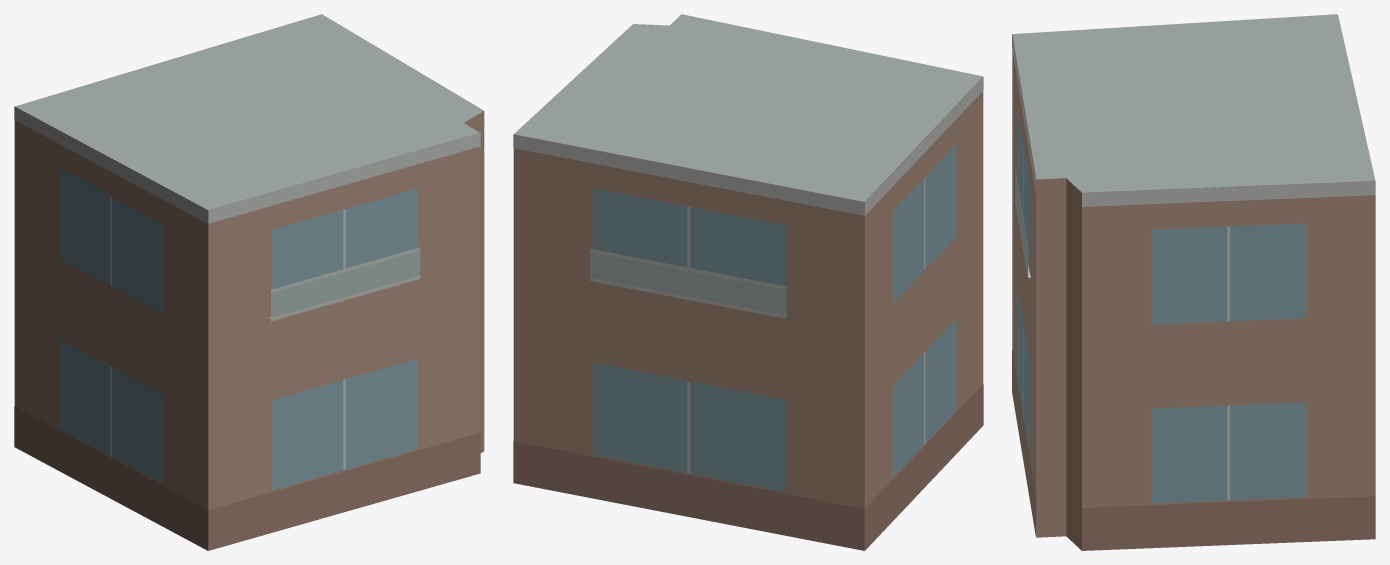
The model's file is survey-upis-32925033.glb.
3 views of the same model, side by side, from view 1: azimuth 30°, elevation 25°; view 2: azimuth 150°, elevation 25°; view 3: azimuth 270°, elevation 25° (orthographic). The views are drawn at different scales.
Visible parts, largest first — view 1: survey-upis-32925033.tmp; view 2: survey-upis-32925033.tmp; view 3: survey-upis-32925033.tmp.
Part boxes in pixels (x1=…): survey-upis-32925033.tmp: x1=14, y1=14, x2=484, y2=550; survey-upis-32925033.tmp: x1=513, y1=14, x2=983, y2=550; survey-upis-32925033.tmp: x1=1012, y1=14, x2=1375, y2=550.
Size of the model in its own units: 6.53 by 6.1 by 5.62.
